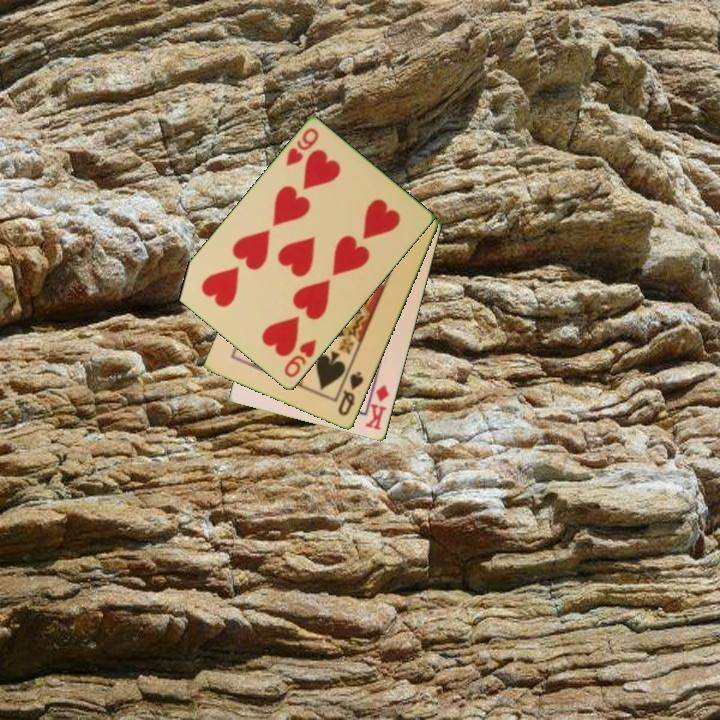9h: (282, 125, 322, 170), (281, 336, 319, 381)
Kd: (362, 377, 392, 433)
Qs: (335, 368, 367, 419)
